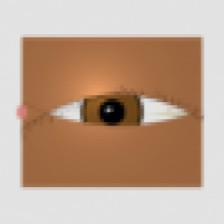pterygium_lesion: (136, 85, 204, 139)
